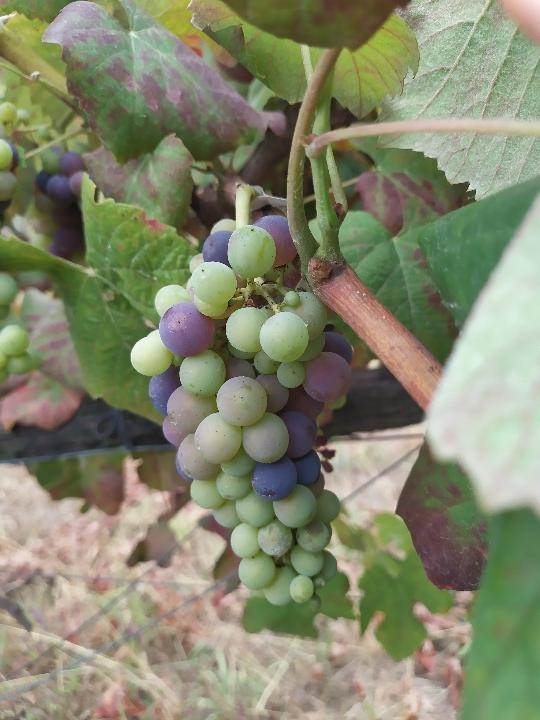grape: (126, 214, 356, 607)
